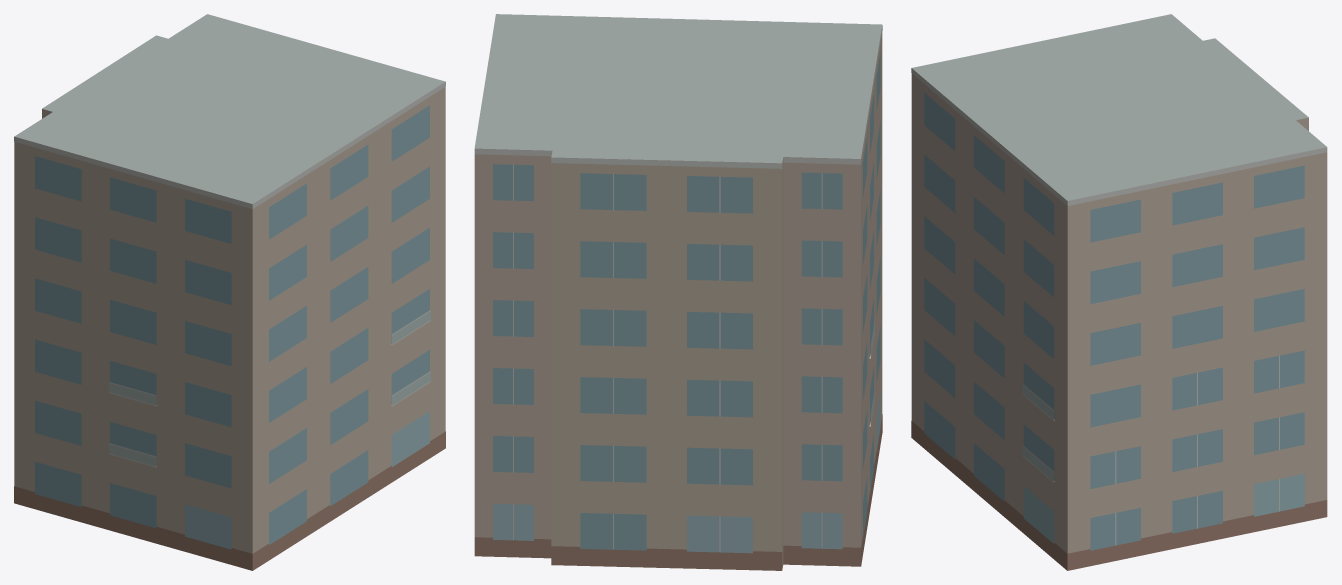
The model's file is survey-upis-32912764.glb.
3 views of the same model, side by side, from view 1: azimuth 30°, elevation 25°; view 2: azimuth 150°, elevation 25°; view 3: azimuth 270°, elevation 25° (orthographic). The views are drawn at different scales.
Visible parts, largest first — view 1: survey-upis-32912764.tmp; view 2: survey-upis-32912764.tmp; view 3: survey-upis-32912764.tmp.
Part boxes in pixels (box(x1,y1,x2,y2)): survey-upis-32912764.tmp: box(14, 14, 445, 570); survey-upis-32912764.tmp: box(474, 14, 882, 570); survey-upis-32912764.tmp: box(911, 14, 1327, 570).
Bounding box in the file's own units: 19.26 × 17.75 × 18.1.
